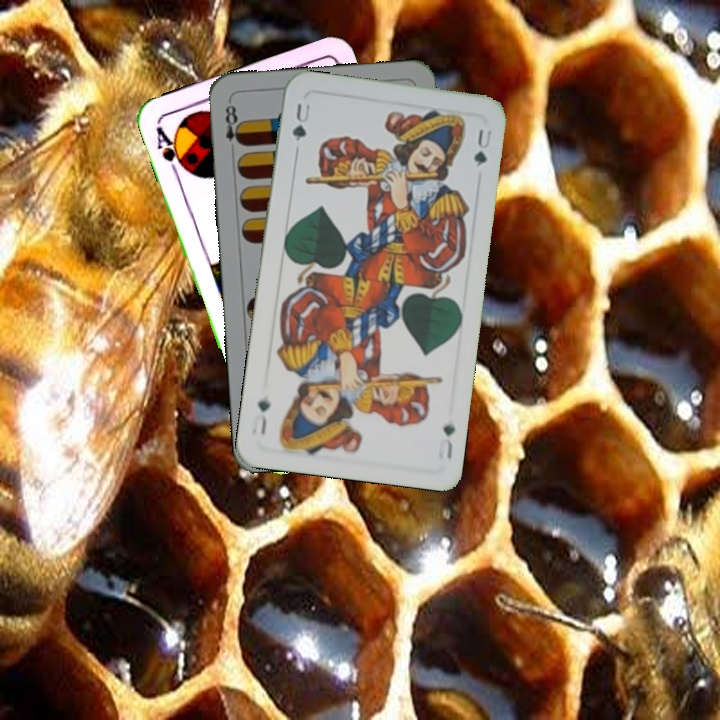E8: (221, 98, 245, 157)
GU: (288, 99, 313, 144), (439, 419, 457, 463)
SA: (151, 122, 189, 178)
